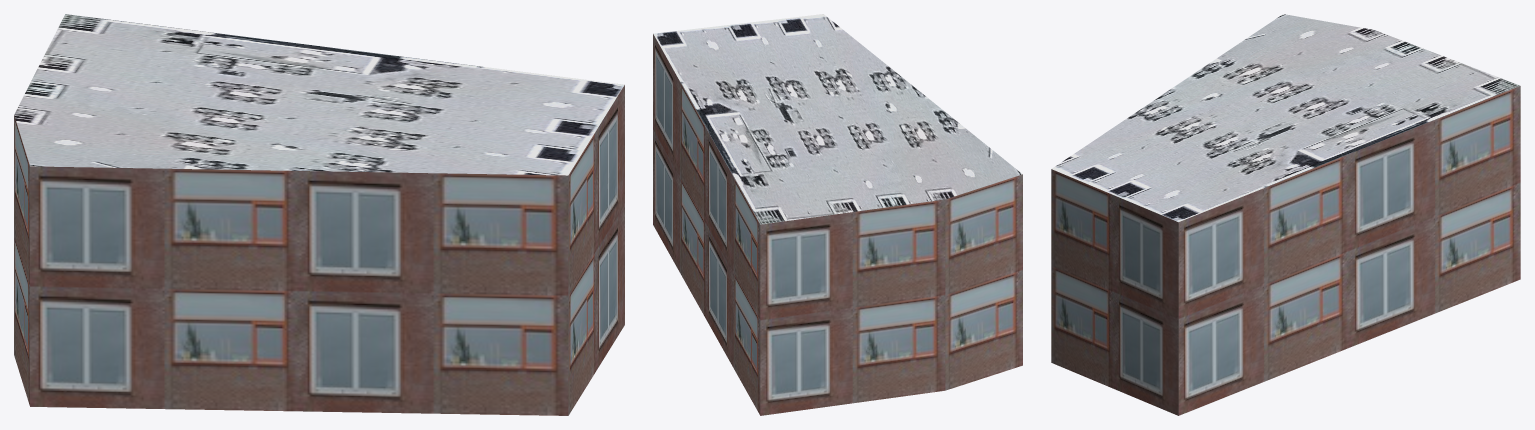
Rendered from ResTex__504.fbx.
3 renders of one model, left to right at view 1: azimuth 30°, elevation 25°; view 2: azimuth 150°, elevation 25°; view 3: azimuth 270°, elevation 25°, orthographic. The views are drawn at different scales.
Parts seen in each view (by area): view 1: CityEngineMaterial_19_m, CityEngineMaterial_15_m; view 2: CityEngineMaterial_19_m, CityEngineMaterial_15_m; view 3: CityEngineMaterial_19_m, CityEngineMaterial_15_m.
Boxes of the visible parts, x1=… form: CityEngineMaterial_19_m: x1=14, y1=85, x2=624, y2=415; CityEngineMaterial_15_m: x1=14, y1=14, x2=624, y2=175; CityEngineMaterial_19_m: x1=653, y1=34, x2=1022, y2=415; CityEngineMaterial_15_m: x1=653, y1=14, x2=1022, y2=224; CityEngineMaterial_19_m: x1=1051, y1=86, x2=1520, y2=415; CityEngineMaterial_15_m: x1=1052, y1=14, x2=1520, y2=222.
Bounding box in the file's own units: 13.83 × 6 × 13.18.
Materials: 2 (2 with a texture image).
